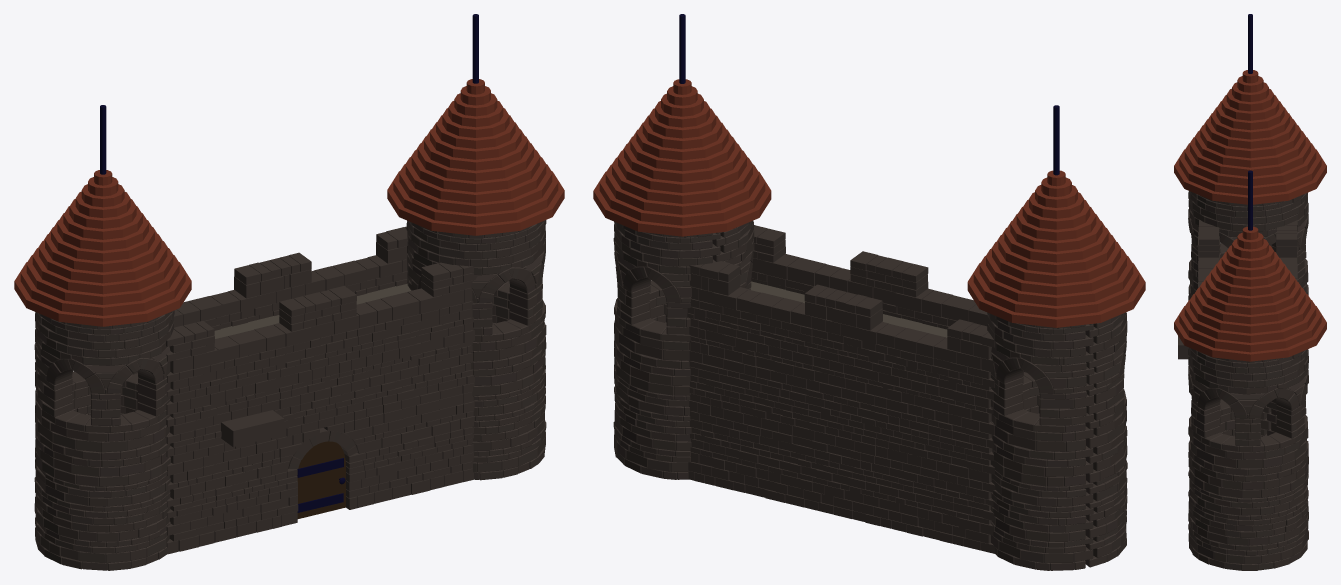
Rendered from Prefeitura.Sigma_Textured.fbx.
The picture shows the model from 3 angles, left to right: view 1: azimuth 30°, elevation 25°; view 2: azimuth 150°, elevation 25°; view 3: azimuth 270°, elevation 25°; orthographic projection. The views are drawn at different scales.
Parts seen in each view (by area): view 1: Wall.3, Wall.2, Wall.1, Roof.2, Roof.1, Wall.4, Door, Floor, Door.05; view 2: Wall.4, Wall.2, Wall.1, Roof.2, Roof.1, Wall.3, Floor; view 3: Wall.1, Roof.2, Roof.1, Wall.2, Wall.3, Wall.4.
Boxes of the visible parts, left/top/right/bottom form: Wall.3: left=166, top=262, right=477, bottom=554; Wall.2: left=34, top=310, right=174, bottom=570; Wall.1: left=406, top=220, right=546, bottom=480; Roof.2: left=387, top=14, right=564, bottom=235; Roof.1: left=14, top=105, right=191, bottom=326; Wall.4: left=132, top=226, right=407, bottom=374; Door: left=297, top=441, right=345, bottom=518; Floor: left=214, top=283, right=411, bottom=338; Door.05: left=297, top=458, right=345, bottom=512; Wall.4: left=687, top=259, right=995, bottom=553; Wall.2: left=987, top=312, right=1127, bottom=570; Wall.1: left=613, top=221, right=754, bottom=479; Roof.2: left=593, top=14, right=771, bottom=236; Roof.1: left=967, top=105, right=1145, bottom=327; Wall.3: left=751, top=225, right=1026, bottom=372; Floor: left=750, top=281, right=947, bottom=337; Wall.1: left=1188, top=347, right=1308, bottom=570; Roof.2: left=1174, top=170, right=1326, bottom=361; Roof.1: left=1174, top=14, right=1326, bottom=204; Wall.2: left=1188, top=191, right=1308, bottom=395; Wall.3: left=1178, top=219, right=1219, bottom=359; Wall.4: left=1276, top=220, right=1297, bottom=424.
Size of the model in its own units: 1561 by 1232 by 456.
